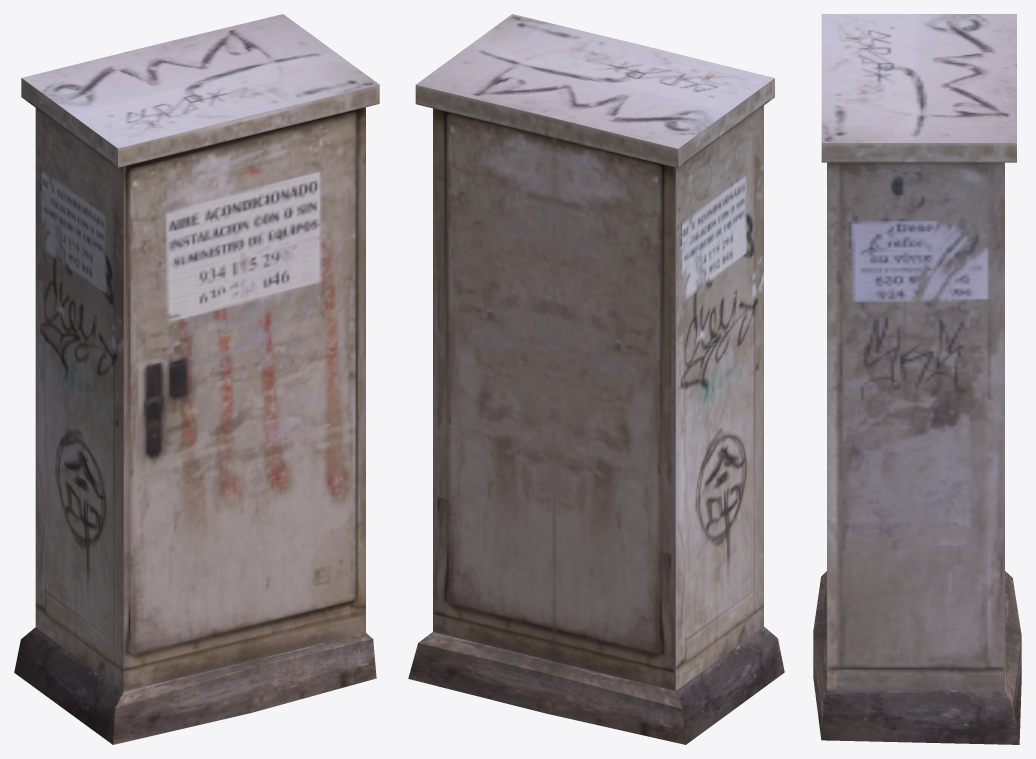
File: electro.FBX
The picture shows the model from 3 angles, left to right: view 1: azimuth 30°, elevation 25°; view 2: azimuth 150°, elevation 25°; view 3: azimuth 270°, elevation 25°; orthographic projection.
Visible parts, largest first — view 1: prop_electro_LOD0; view 2: prop_electro_LOD0; view 3: prop_electro_LOD0.
Part boxes in pixels (x1=…): prop_electro_LOD0: x1=14, y1=14, x2=379, y2=744; prop_electro_LOD0: x1=408, y1=14, x2=784, y2=744; prop_electro_LOD0: x1=813, y1=14, x2=1021, y2=744.
Size of what is drawn, in the model's own units: 0.6978 by 1.44 by 0.4533.
